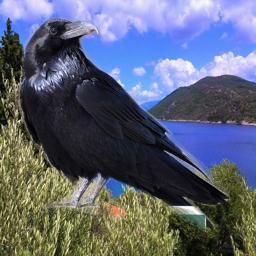Crow: (19, 17, 230, 232)
